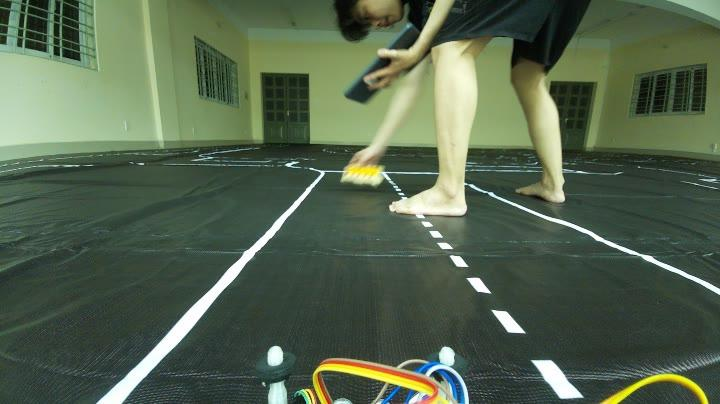roadblock: (340, 158, 387, 188)
